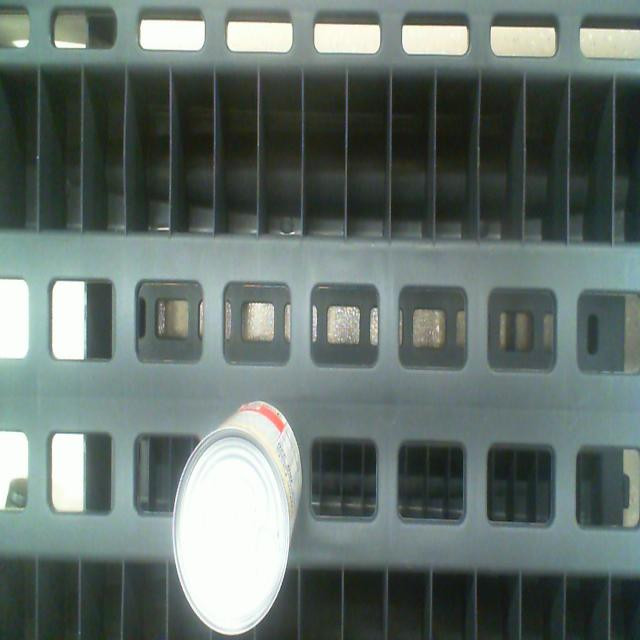can: (172, 426, 292, 634)
